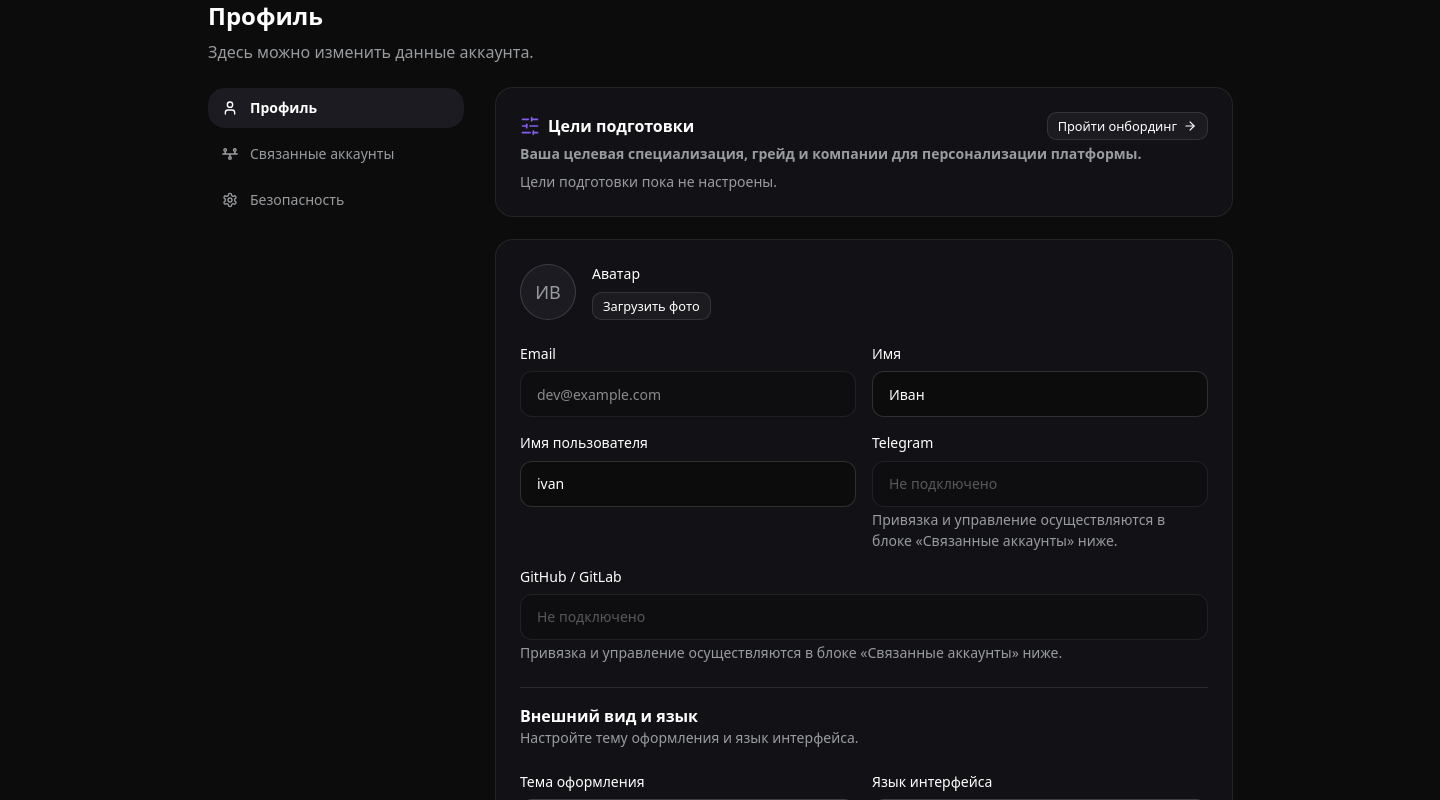
Scenario: UpdateProfileForm › после сохранения показывает значения сервера и снова блокирует кнопку
Replace the text in the field showing "Иван" with "  Иван Петров  " at {"x": 1040, "y": 394}, box [872, 371, 1208, 417]
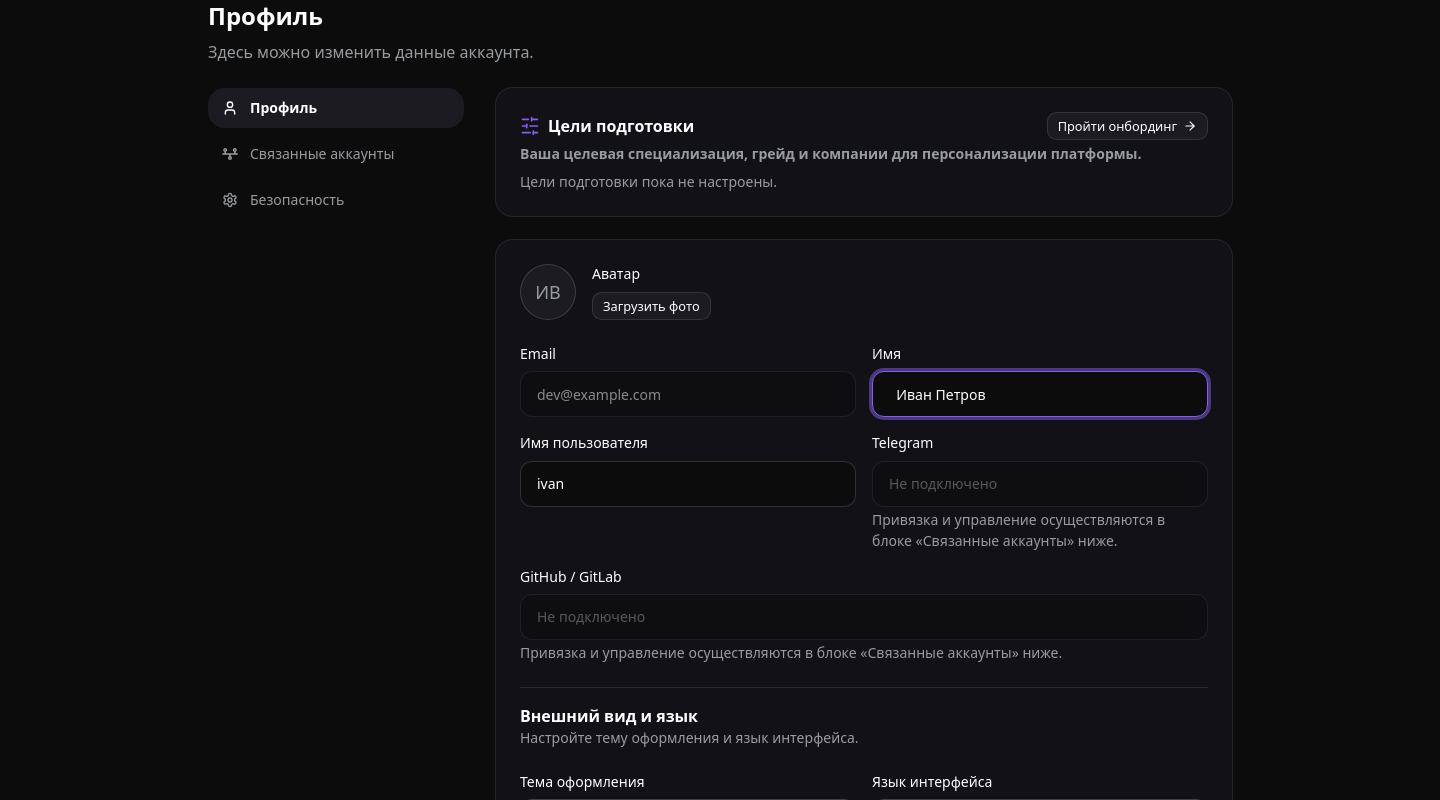
Replace the text in the field showing "ivan" with "IVAN" at {"x": 688, "y": 484}, box [520, 460, 856, 506]
(page scrolled)
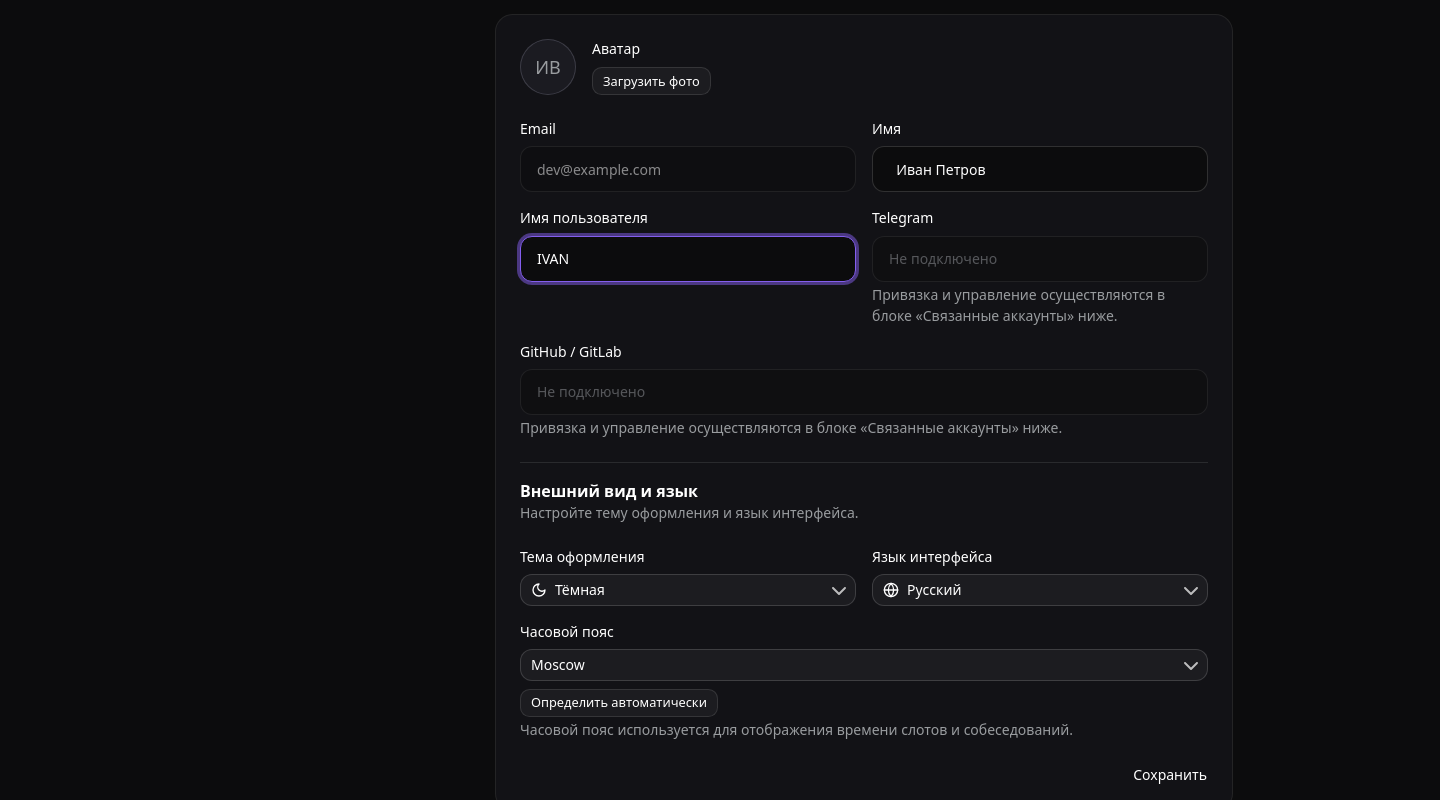
Click the button "Сохранить".
click(1170, 775)  # box [1132, 764, 1208, 786]
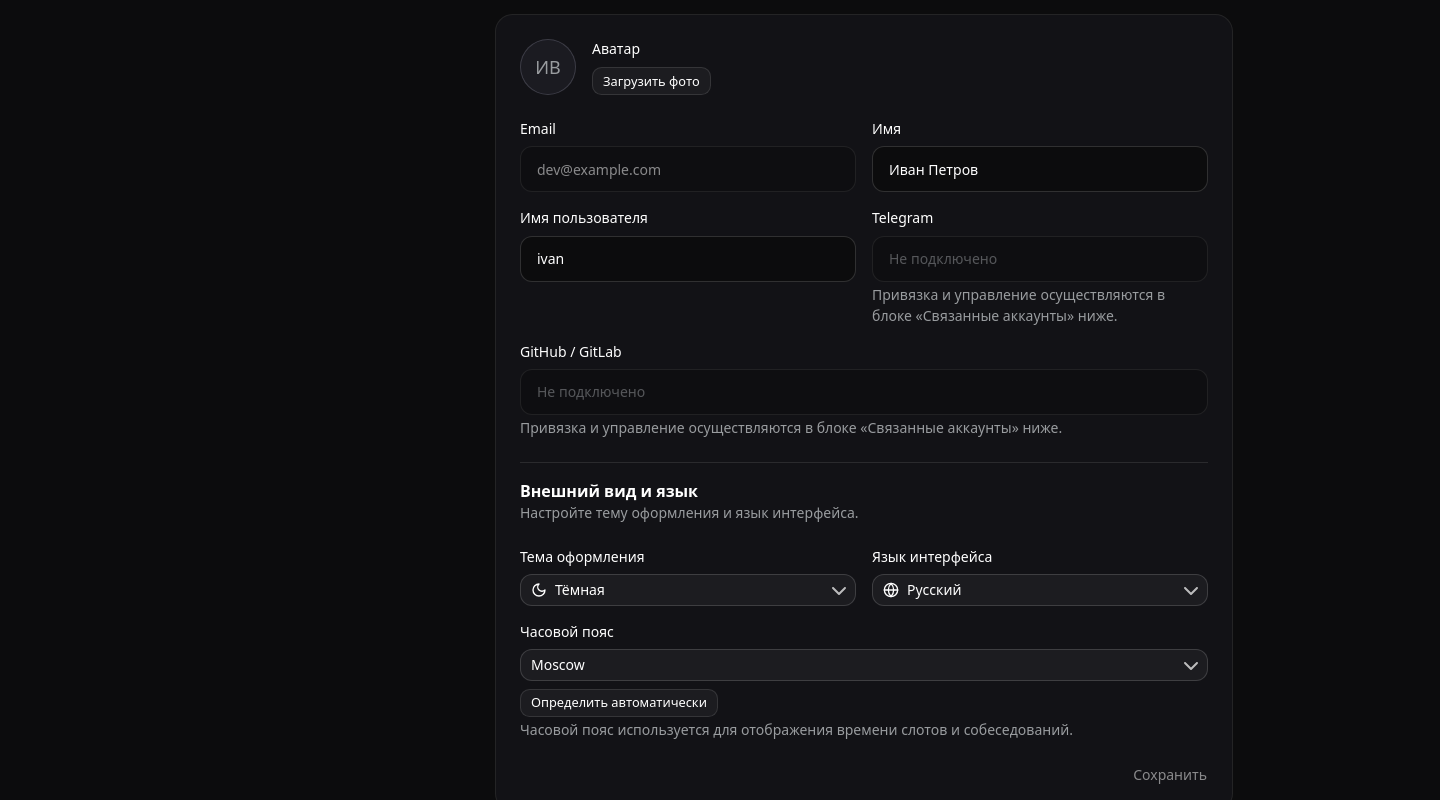
Check: the field labelled "GitHub / GitLab" is disabled, box [520, 369, 1208, 415]
Check: the button "Сохранить" is disabled, box [1132, 764, 1208, 786]
